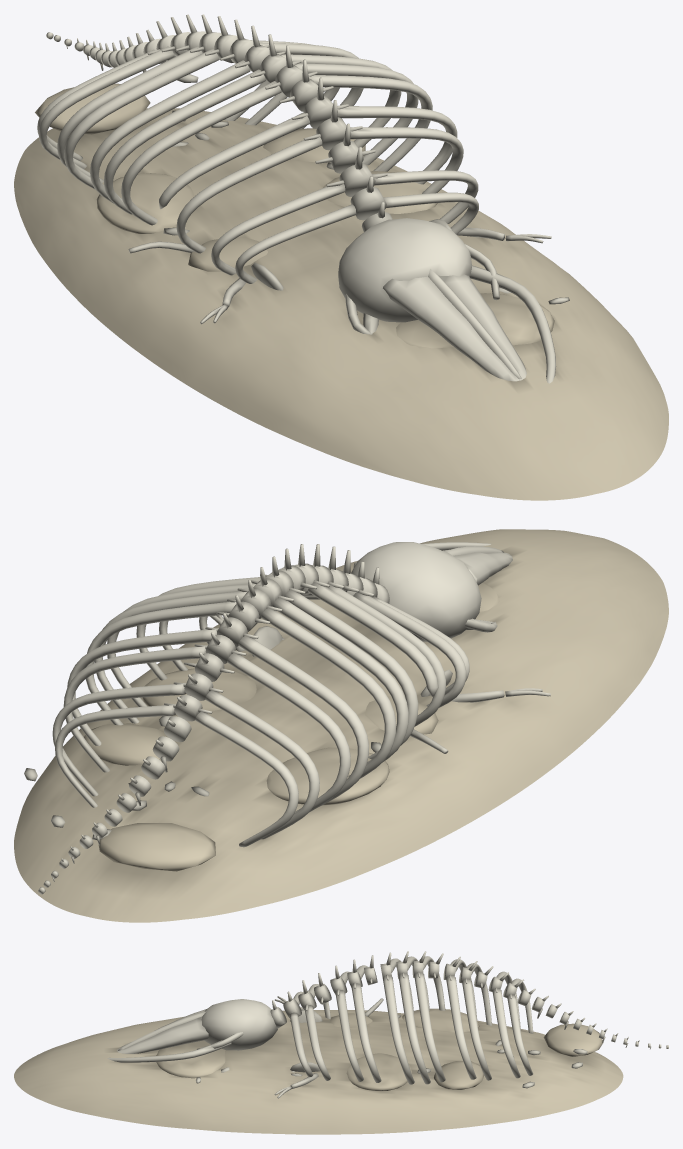
The model's file is whale_skeleton.glb.
3 renders of one model, top to bottom at view 1: azimuth 30°, elevation 25°; view 2: azimuth 150°, elevation 25°; view 3: azimuth 270°, elevation 25°, orthographic. The views are drawn at different scales.
Parts seen in each view (by area): view 1: whale_skeleton; view 2: whale_skeleton; view 3: whale_skeleton.
Boxes of the visible parts, x1=… form: whale_skeleton: x1=14, y1=14, x2=668, y2=500; whale_skeleton: x1=14, y1=529, x2=668, y2=922; whale_skeleton: x1=14, y1=951, x2=668, y2=1134.
Size of the model in its own units: 11.15 by 5.7 by 26.65.
